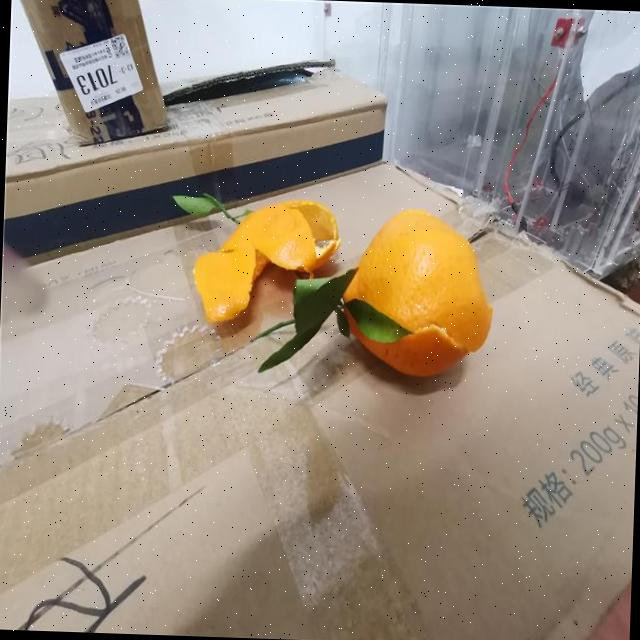orange-peel: (338, 204, 496, 380), (198, 146, 314, 368)
